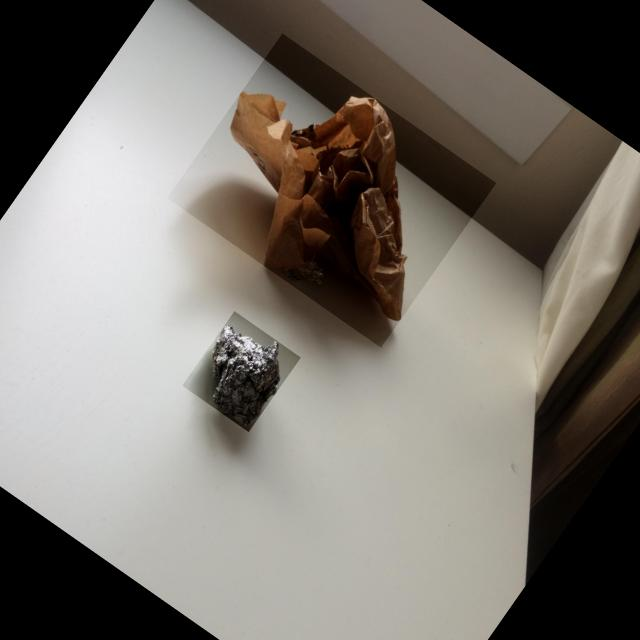Aluminium foil: (210, 324, 278, 426), (280, 261, 323, 284)
Paper: (229, 91, 406, 320)
